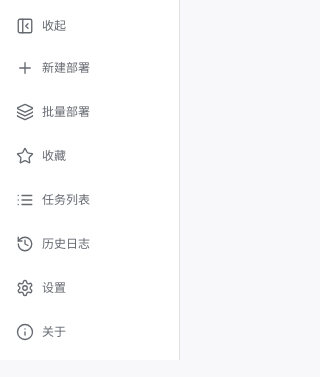
SideNav › 已展开时再点一次收起
The width and height of the screenshot is (320, 377).
Click the button with test id "sidebar-toggle" at (90, 26), box [8,8,171,44]
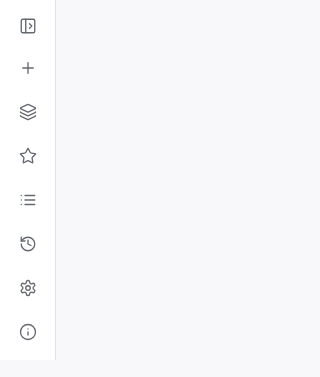
Expected: the text "任务列表" is gone
